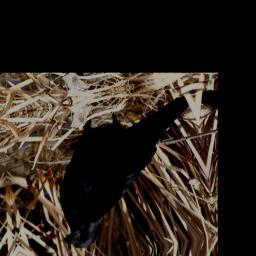Crow: (42, 94, 210, 254)
